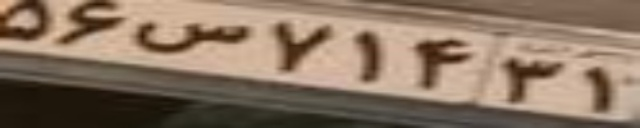1: (350, 30, 385, 83), (581, 65, 614, 113)
3: (500, 55, 564, 104)
4: (410, 37, 469, 90)
5: (0, 1, 51, 40)
6: (58, 0, 124, 44)
7: (274, 18, 333, 72)
sin: (133, 18, 248, 53)
